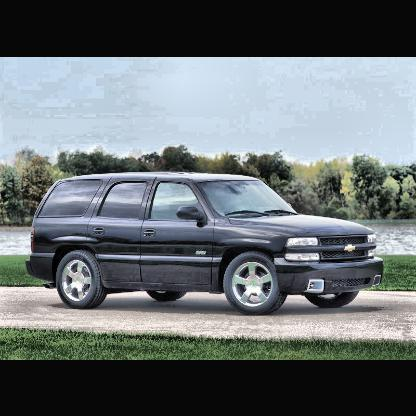Chevrolet TrailBlazer SS 2009: (25, 170, 386, 316)
